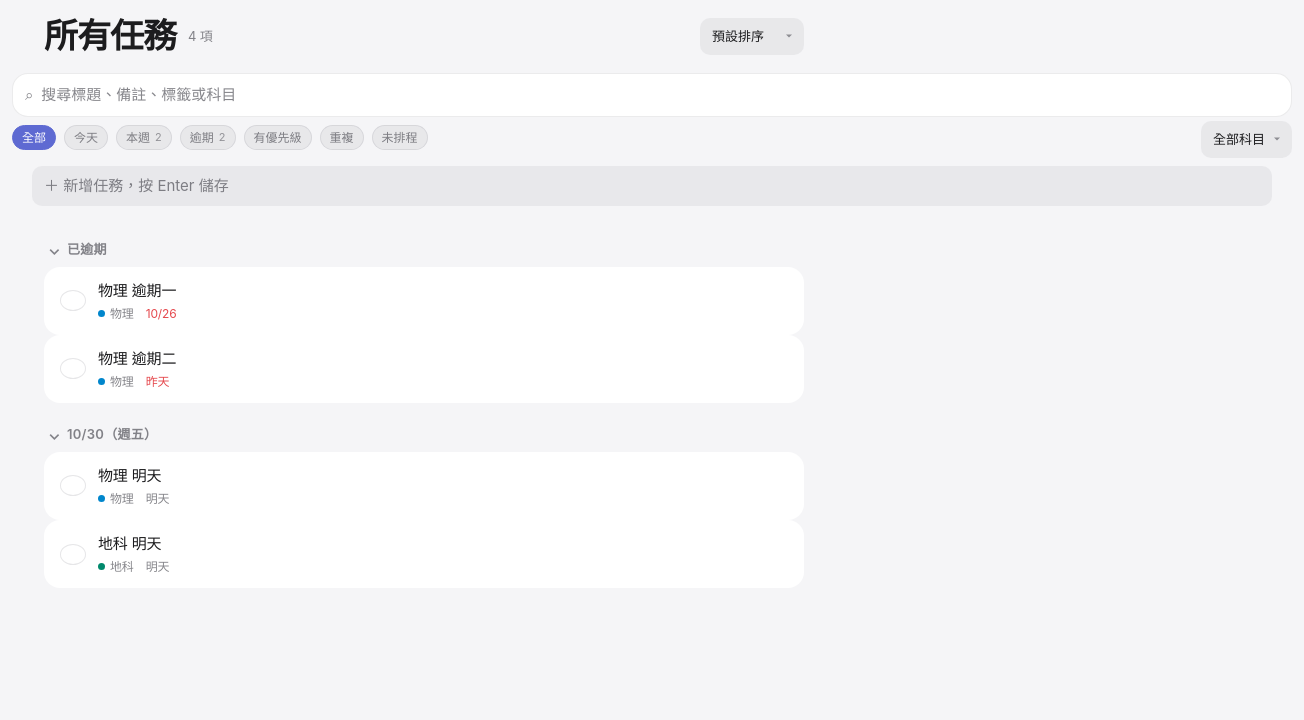
Test: 任務頁：照科目分堆看得出各科逾期幾項 › 每一科的標頭寫出項數，欠的那一科寫出逾期幾項
// 切到「照科目分堆」（§K 起「任務」頁多了科目篩選 select，排序 select 用 aria-label 指定）
Select "照科目分堆" in the dropdown named "排序方式": (752, 36) x1=700 y1=18 x2=804 y2=55
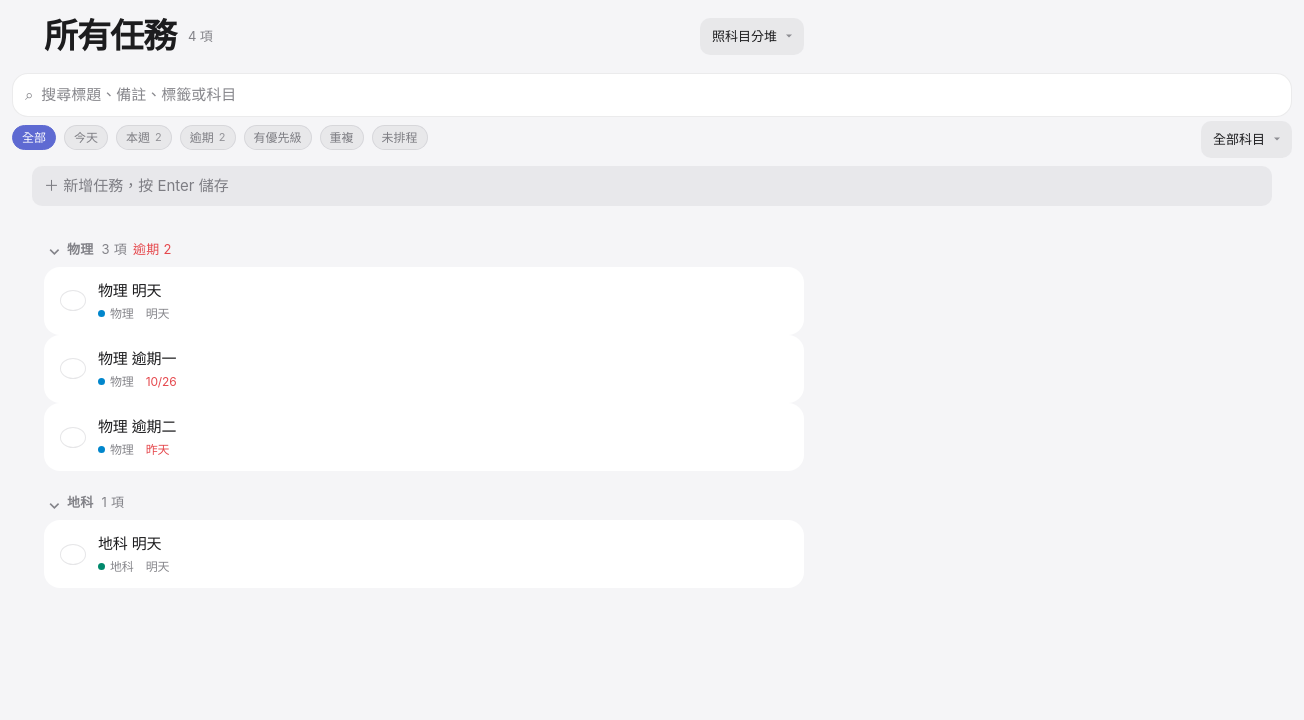
Check: the text "3 項" is shown, box x1=102 y1=240 x2=127 y2=259
Check: the text "逾期 2" is shown, box x1=133 y1=240 x2=172 y2=259
Check: the text "1 項" is shown, box x1=102 y1=493 x2=124 y2=512
